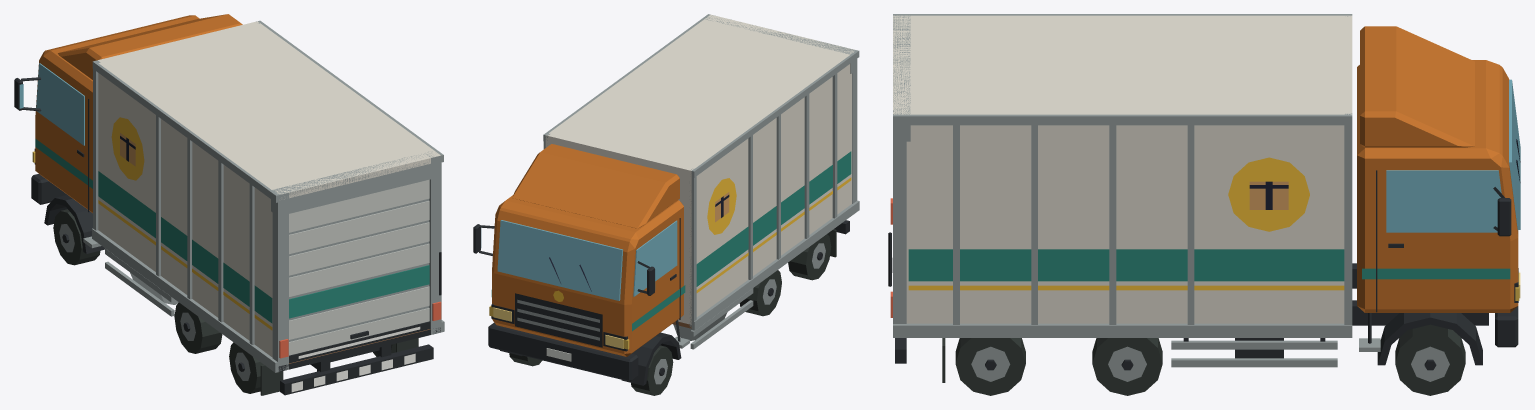
File: sm_vehicle_supplier_truck.glb
3 views of the same model, side by side, from view 1: azimuth 30°, elevation 25°; view 2: azimuth 150°, elevation 25°; view 3: azimuth 270°, elevation 25° (orthographic). The views are drawn at different scales.
Parts seen in each view (by area): view 1: CargoBox, RearDoor, Cab, Wheels; view 2: CargoBox, Cab, Wheels, Light; view 3: CargoBox, Cab, Wheels.
Boxes of the visible parts, box(x1,y1,x2,y2) form: CargoBox: box(92, 20, 444, 395); RearDoor: box(289, 179, 430, 363); Cab: box(14, 14, 242, 253); Wheels: box(53, 209, 395, 393); CargoBox: box(543, 14, 859, 349); Cab: box(473, 144, 689, 385); Wheels: box(509, 234, 831, 395); Light: box(493, 307, 623, 348); CargoBox: box(888, 14, 1488, 382); Cab: box(1357, 26, 1520, 365); Wheels: box(955, 324, 1465, 395).
Bounding box in the file's own units: 2.93 × 3.2 × 6.47.
